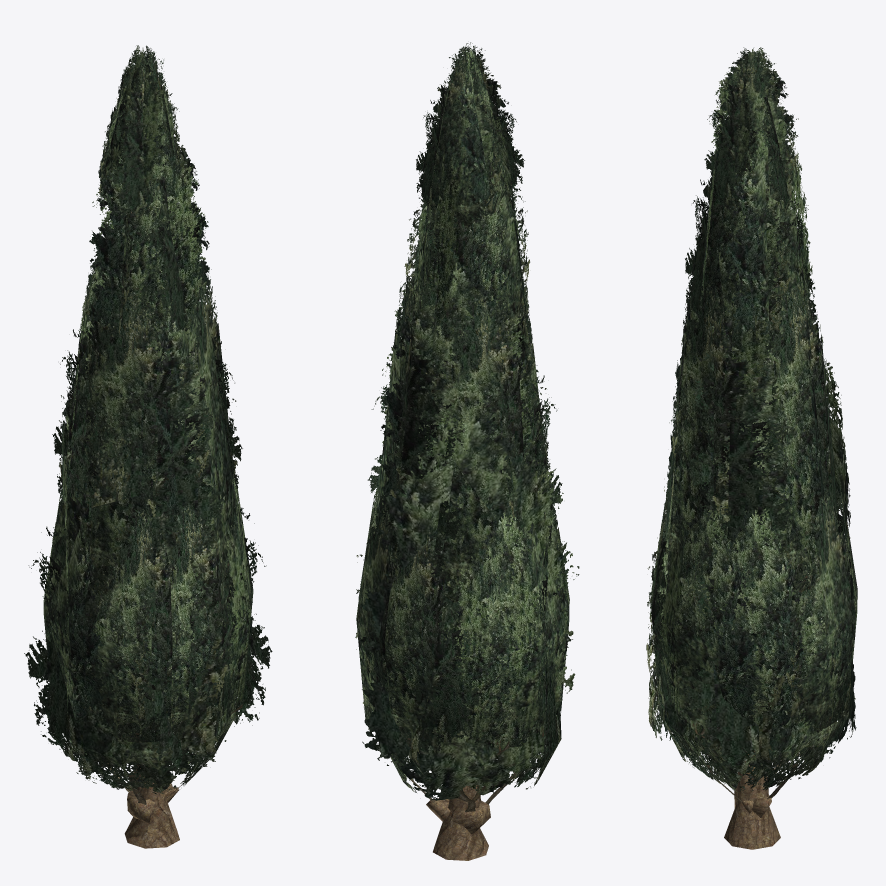
File: Model_Tree_02.fbx
3 renders of one model, left to right at view 1: azimuth 30°, elevation 25°; view 2: azimuth 150°, elevation 25°; view 3: azimuth 270°, elevation 25°, orthographic. The views are drawn at different scales.
Visible parts, largest first — view 1: Tree_02; view 2: Tree_02; view 3: Tree_02.
Part boxes in pixels (x1,y1,x2,y2): Tree_02: [24, 45, 272, 848]; Tree_02: [355, 42, 579, 860]; Tree_02: [646, 47, 857, 849].
Bounding box in the file's own units: 331 × 1066 × 294.
